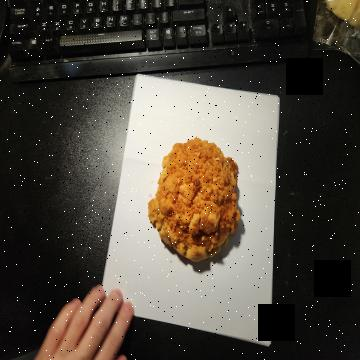soboru_bread: (146, 136, 240, 266)
